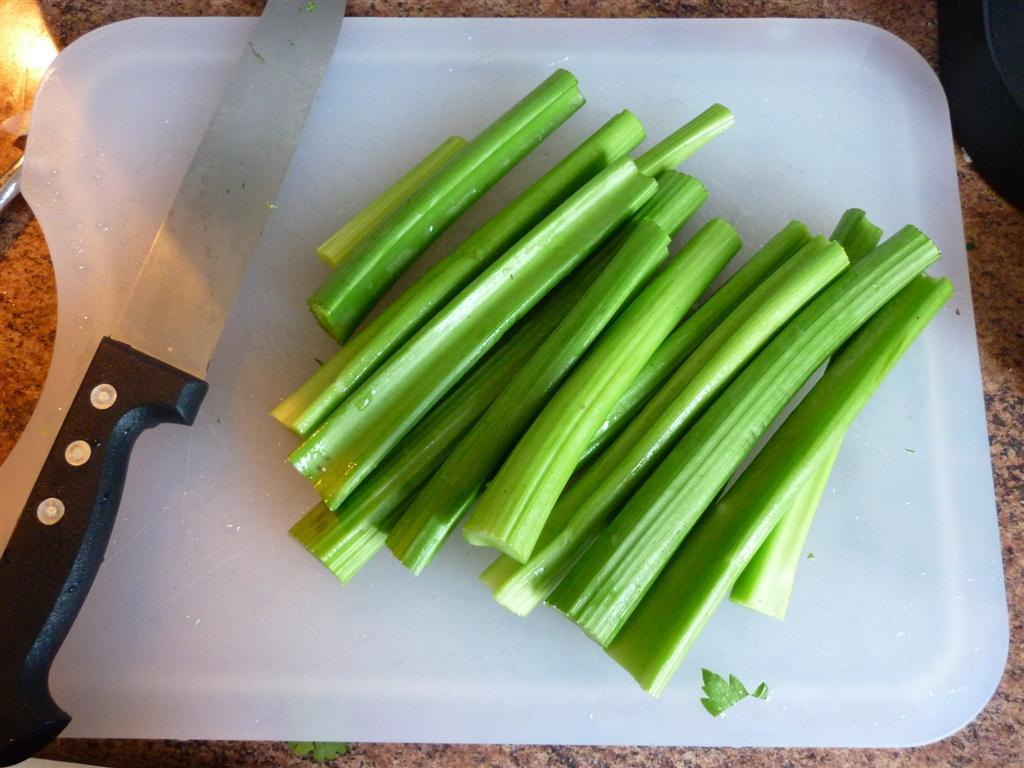knife: (0, 0, 345, 767)
